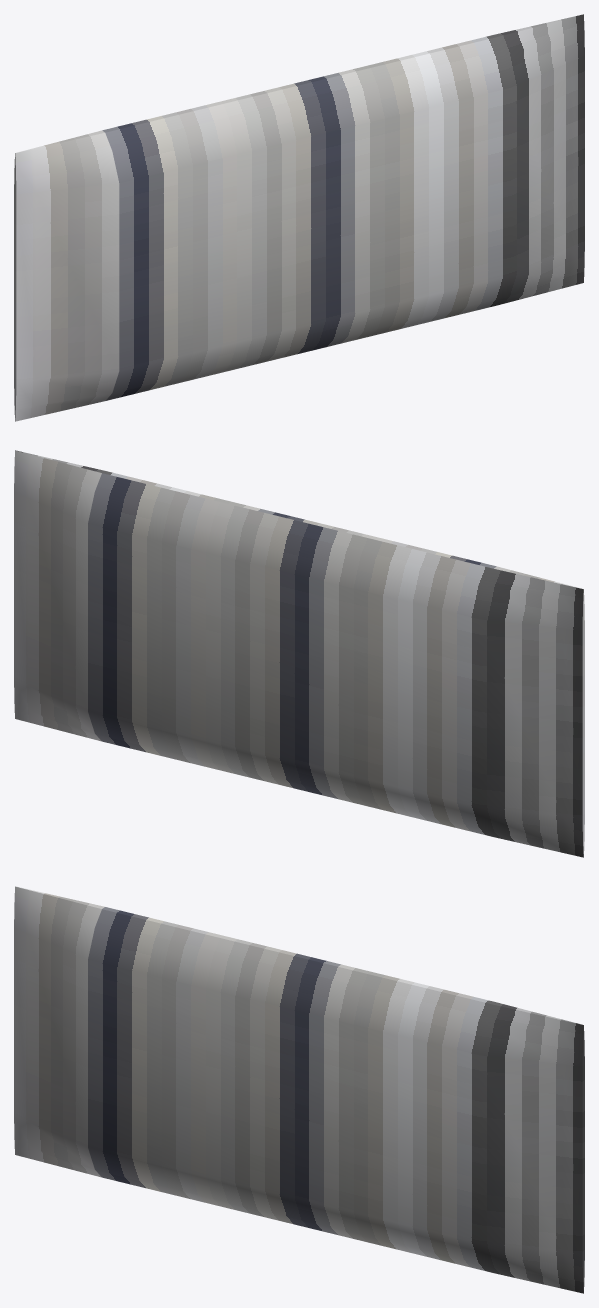
The model's file is Wide_PIllow.fbx.
3 renders of one model, top to bottom at view 1: azimuth 30°, elevation 25°; view 2: azimuth 150°, elevation 25°; view 3: azimuth 330°, elevation 25°, orthographic.
Visible parts, largest first — view 1: Horizontal_rectangle; view 2: Horizontal_rectangle; view 3: Horizontal_rectangle.
Part boxes in pixels (box(x1,y1,x2,y2)): Horizontal_rectangle: box(14, 14, 584, 421); Horizontal_rectangle: box(14, 450, 584, 857); Horizontal_rectangle: box(14, 886, 584, 1293).
Size of the model in its own units: 257 by 116 by 24.6.
1 material, 1 textured.
